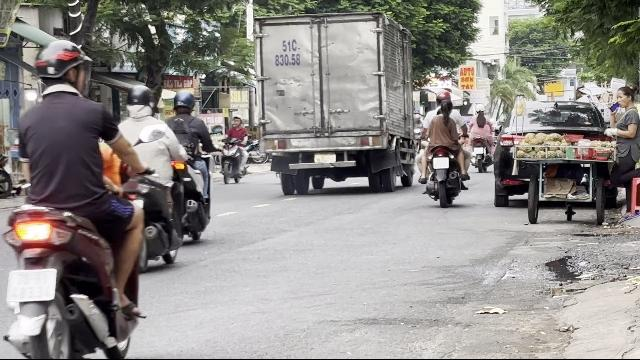helmet: (31, 40, 95, 98), (125, 84, 154, 116), (171, 90, 195, 114), (434, 89, 452, 103)
licenseplate: (8, 270, 56, 302), (433, 158, 449, 168)
motorcyclist: (0, 37, 156, 354), (109, 83, 191, 273), (167, 86, 215, 242), (416, 86, 472, 206)
nohelmet: (438, 99, 454, 121)
